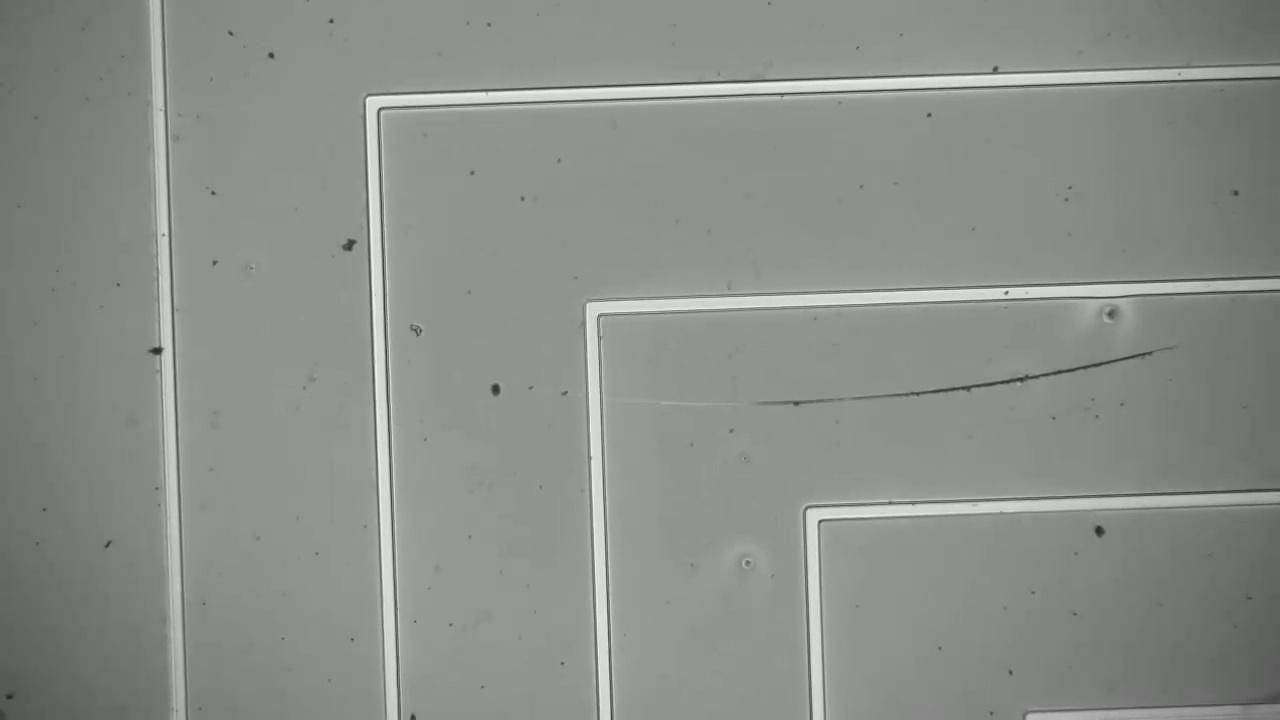scratch: (748, 324, 1176, 442)
stains_enbedded: (137, 333, 186, 377)
